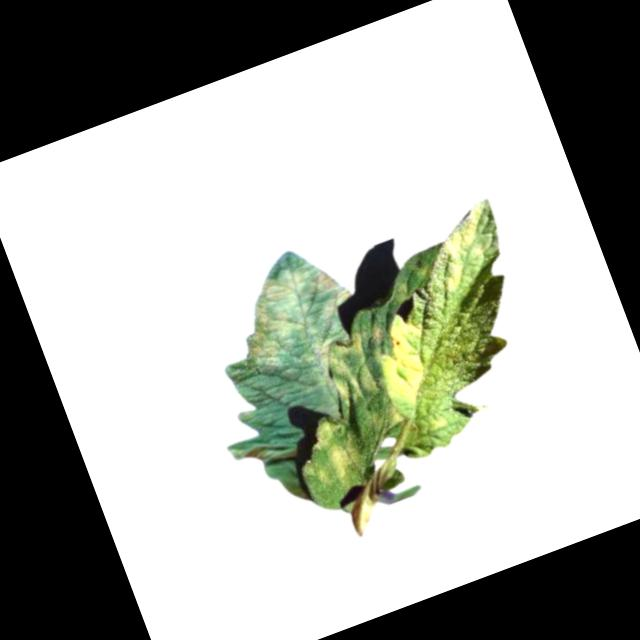Leaf_Mold: (218, 239, 371, 383), (362, 312, 445, 413), (418, 209, 503, 300), (295, 408, 367, 487), (317, 329, 384, 411)
